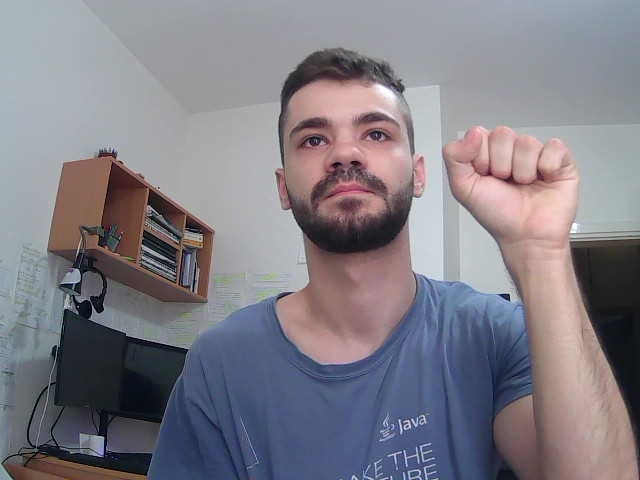a: (436, 105, 588, 256)
